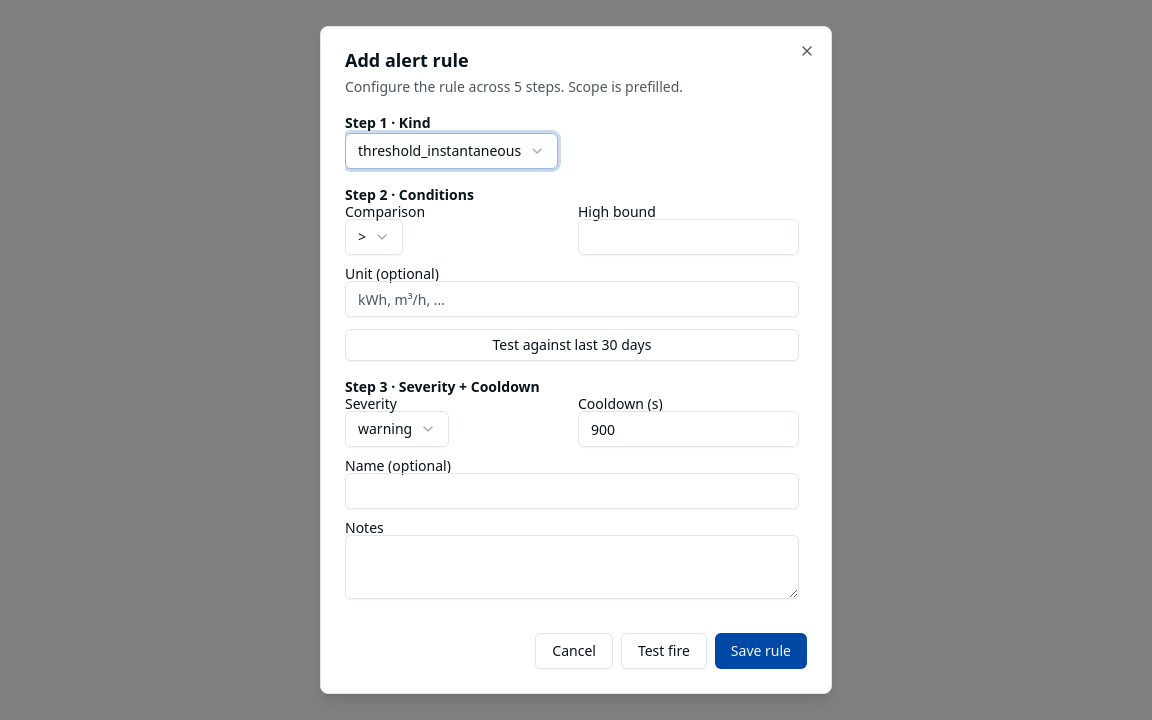
Scenario: AddRuleDialog — backtest button › shows "Defaults may be well-tuned for this meter." when fires_count is 0
Click the button "Test against last 30 days" at {"x": 572, "y": 345}, box [345, 329, 799, 361]
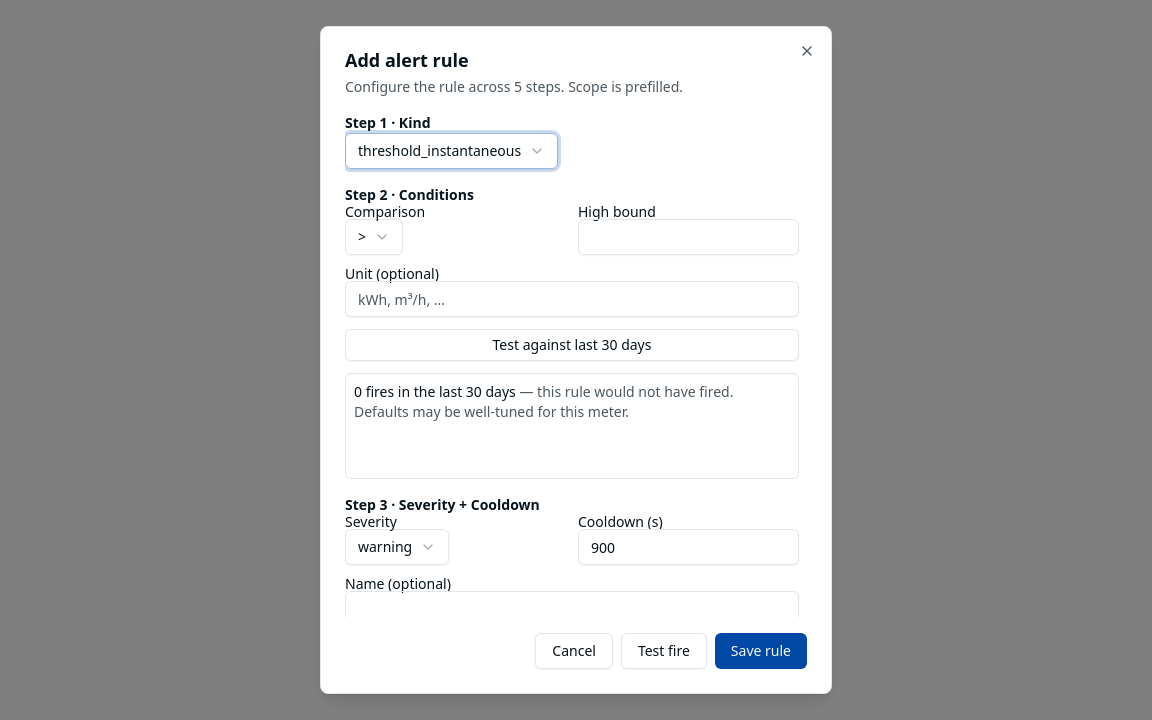
expect the text "Defaults may be well-tuned for this meter" is shown: met, box [354, 382, 734, 421]
